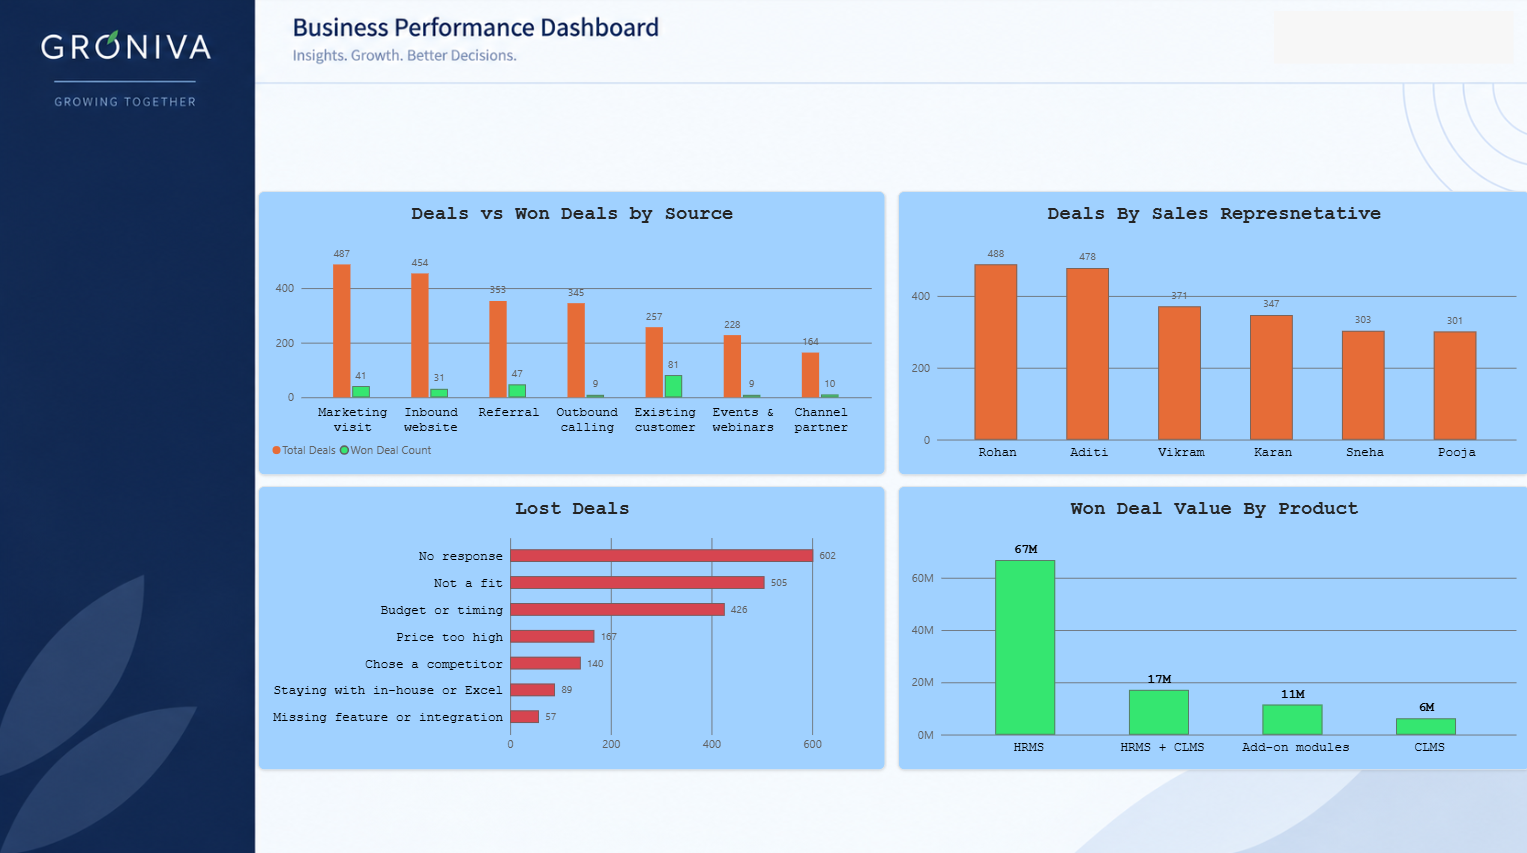

The dashboard page shown, as its layout file describes it:
{"tool":"powerbi","page":{"name":"Sales & Lead Performance","canvas":[1920,1080],"ordinal":1},"visuals":[{"type":"clusteredColumnChart","title":"Deals vs Won Deals by Source","fields":{"Category":["Leads_Deals.src"],"Y":["Leads_Deals.Total Deals","Leads_Deals.Won Deal Count"]},"box":[327.2,243.7,786.4,355.5],"z":0},{"type":"clusteredColumnChart","title":"Deals By Sales Represnetative","fields":{"Category":["Leads_Deals.rep"],"Y":["Leads_Deals.Total Deals"]},"box":[1128.5,243.7,791.8,355.5],"z":1},{"type":"clusteredBarChart","title":"Lost Deals","fields":{"Category":["Leads_Deals.why"],"Y":["Leads_Deals.Lost Deals"]},"box":[327.2,614.1,786.4,355.5],"z":3},{"type":"clusteredColumnChart","title":"Won Deal Value By Product","fields":{"Category":["Leads_Deals.prod"],"Y":["Leads_Deals.Won Deal Value"]},"box":[1128.5,614.1,791.8,355.5],"z":4},{"type":"shape","box":[1599.8,18.9,300.3,66],"z":5}]}

Visuals, with their boxes in screenshot pixels (x1, y1, x2, y2), scaled from the page's 1920x1080 canvas onto the 1527x853 screenshot:
"Deals vs Won Deals by Source" clusteredColumnChart: (left=260, top=192, right=886, bottom=473)
"Deals By Sales Represnetative" clusteredColumnChart: (left=898, top=192, right=1526, bottom=473)
"Lost Deals" clusteredBarChart: (left=260, top=485, right=886, bottom=766)
"Won Deal Value By Product" clusteredColumnChart: (left=898, top=485, right=1526, bottom=766)
shape: (left=1272, top=15, right=1511, bottom=67)
